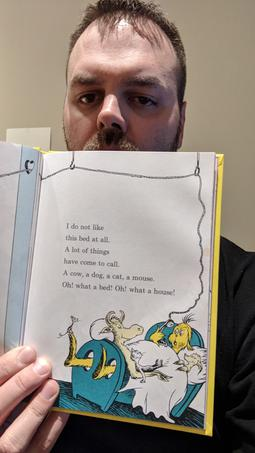text block: (54, 217, 181, 303)
